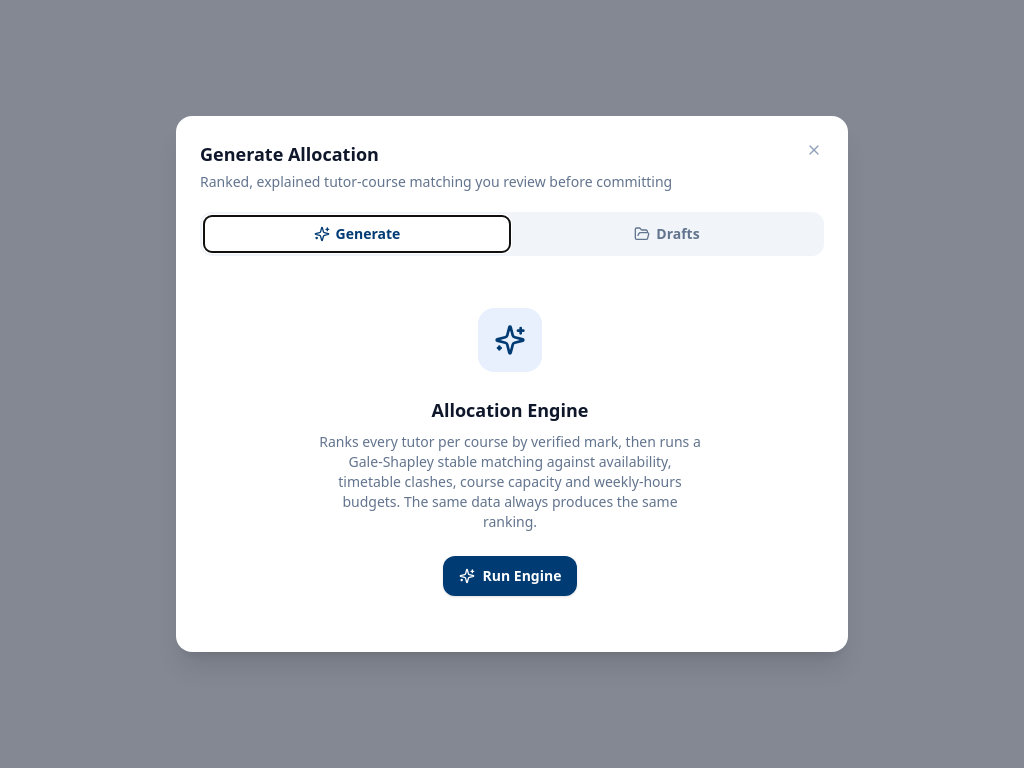
it: GenerateAllocationModal preview › lists ranked and excluded candidates per course with blocking reasons
Click the button "Run Engine" at [510, 576], box [442,556,577,596]
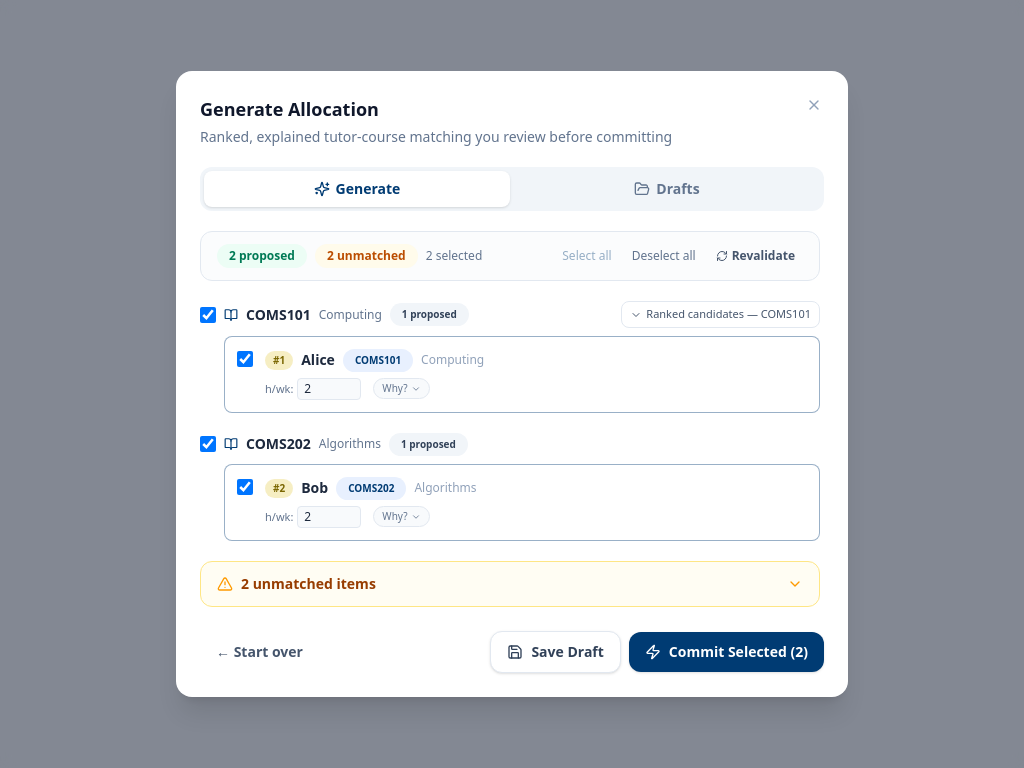
Check: the text "Eligible, best first" is not shown
Check: the text "2 proposed" is shown, box [217,244,307,268]
Click the button "Ranked candidates — COMS101" at [721, 315], box [621,301,820,328]
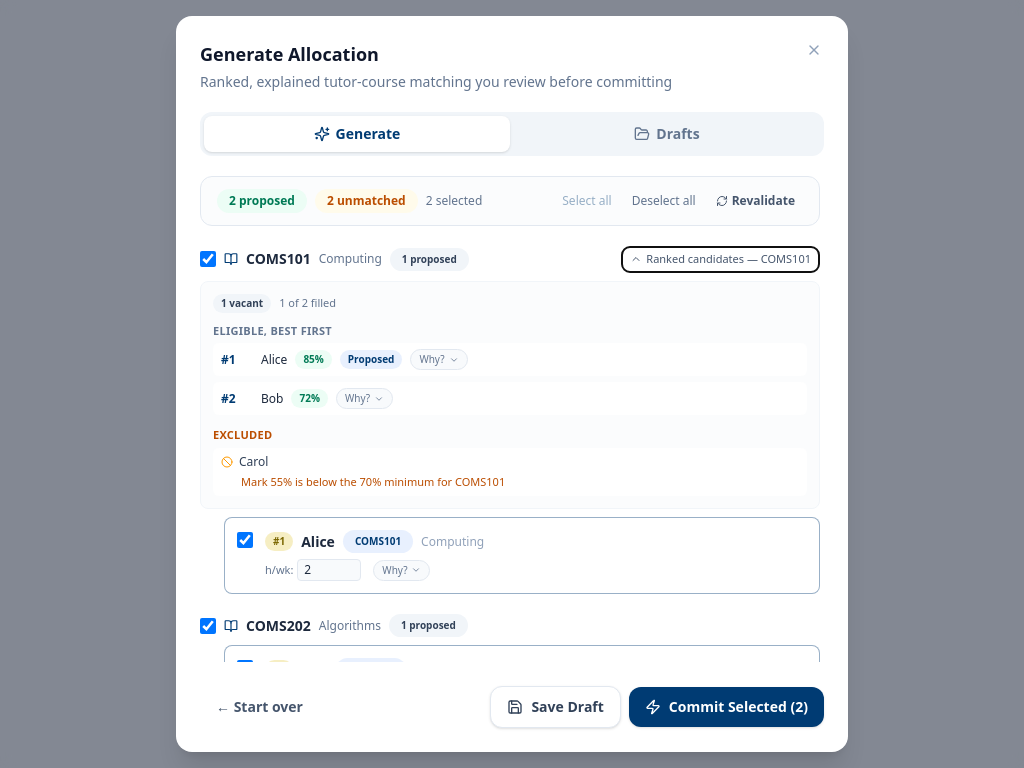
Check: the text "Eligible, best first" is shown, box [213,322,332,338]
Check: the text "1 vacant" is shown, box [213,294,271,312]
Check: the text "1 of 2 filled" is shown, box [279,295,336,311]
